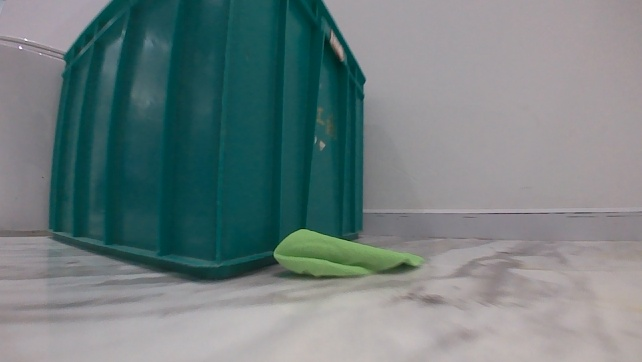socks: (268, 227, 427, 284)
toilet: (0, 33, 71, 235)
